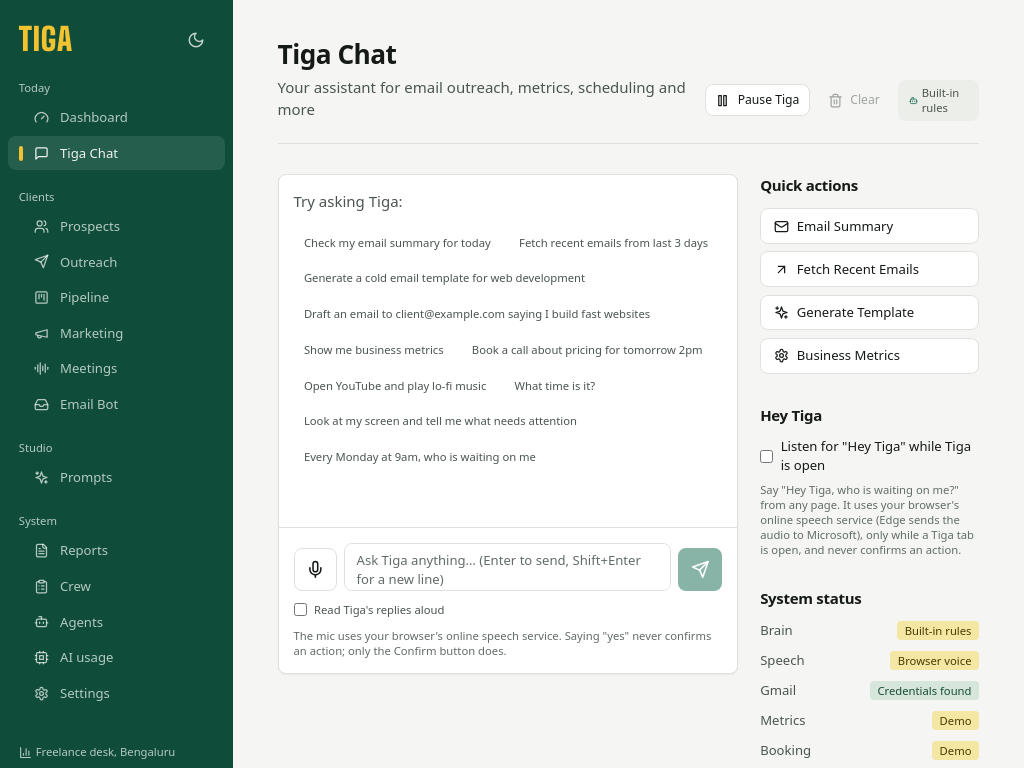
Hey Tiga › is off until the owner switches it on in Chat
Click the checkbox labelled "Listen for \"Hey Tiga\" while Tiga is open".
click(767, 456)  # box [760,450,773,463]
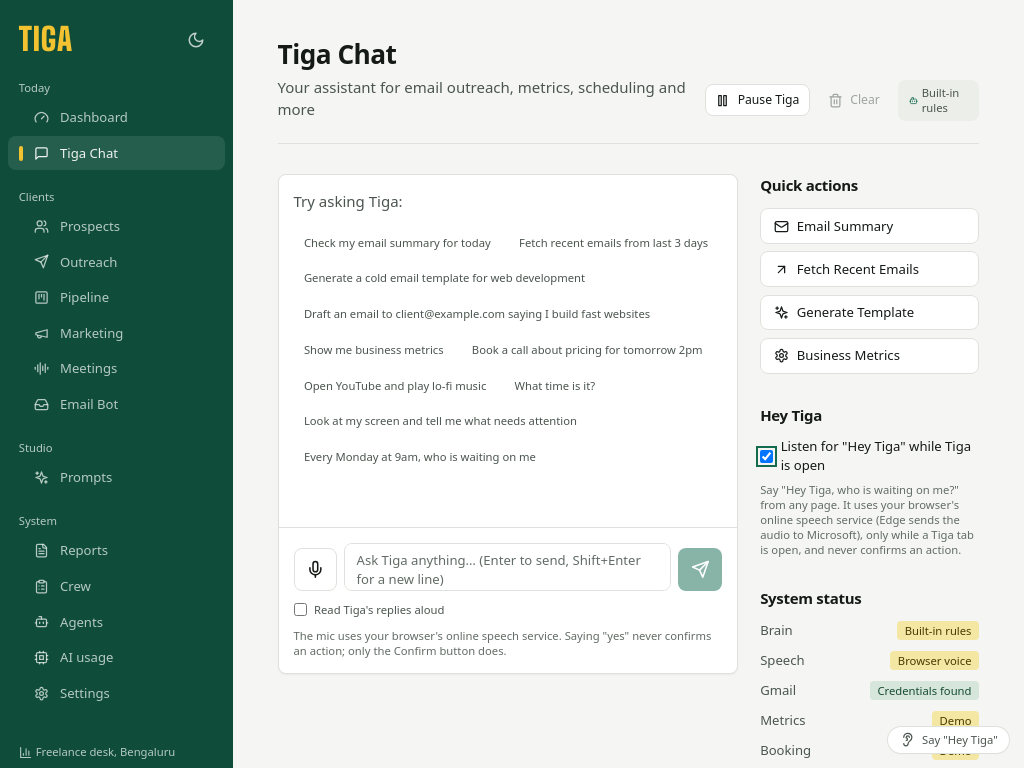
Check: the message reads "Say \"Hey Tiga\"", box [922,732,998,747]
